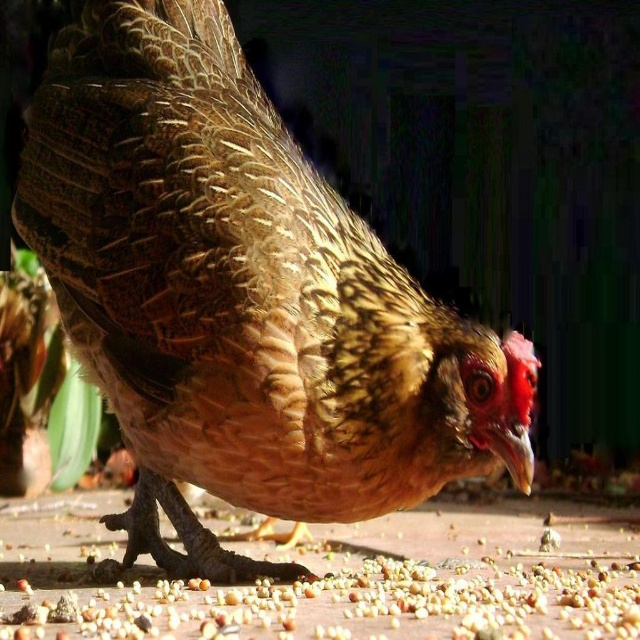Chicken: (0, 0, 535, 582)
